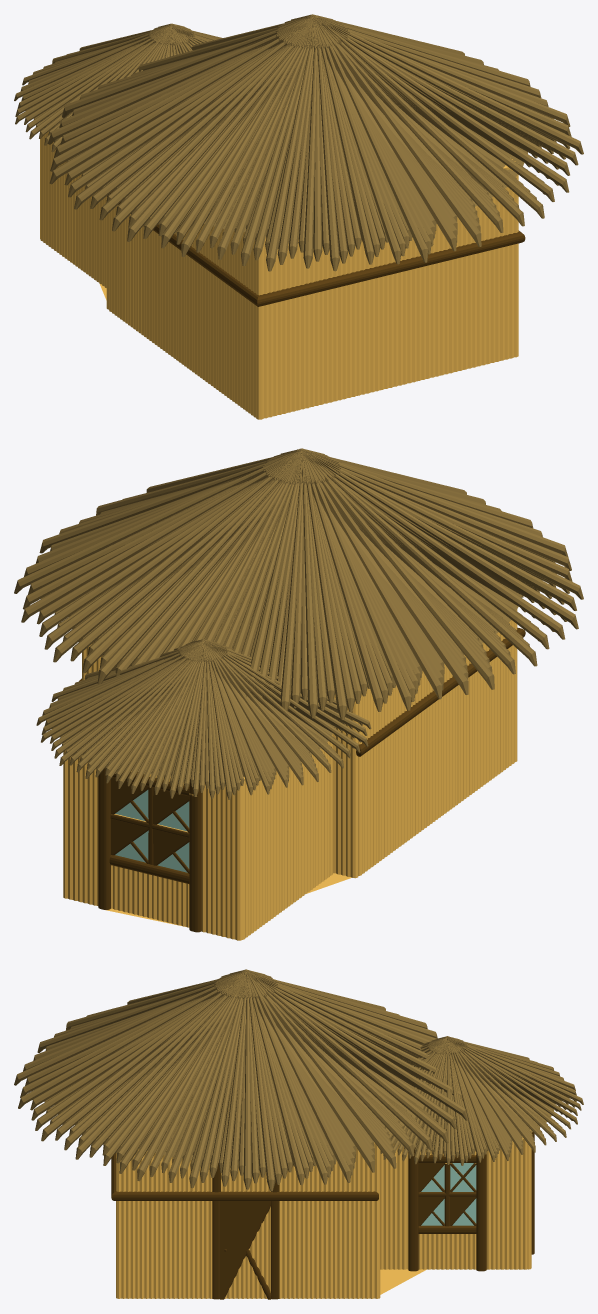
The model's file is LangloisAudrey_Maison1 (1).fbx.
3 renders of one model, top to bottom at view 1: azimuth 30°, elevation 25°; view 2: azimuth 150°, elevation 25°; view 3: azimuth 270°, elevation 25°, orthographic. The views are drawn at different scales.
Visible parts, largest first — view 1: Cube.011, Cylindre.001, Cylindre.003, Cube.008, Cylindre.006, Cube.010, Cône, Cube.009, Cube.026, Cylindre; view 2: Cube.011, Cube.008, Cylindre.003, Cylindre.006, Cube.010, Cylindre.008, Cylindre.007, Cylindre.002, Cylindre.011, Cône, Cube, Cube.009 (+6 smaller); view 3: Cube.011, Cylindre, Cube.008, Cube.010, Cylindre.004, Cube.027, Cylindre.005, Cône, Cube, Cylindre.009, Cube.009, Cylindre.002 (+6 smaller).
Part boxes in pixels (bbox=[...]): Cube.011: bbox=[48, 15, 583, 271]; Cylindre.001: bbox=[262, 165, 518, 419]; Cylindre.003: bbox=[109, 205, 261, 419]; Cube.008: bbox=[14, 25, 222, 152]; Cylindre.006: bbox=[40, 128, 106, 287]; Cube.010: bbox=[107, 191, 525, 306]; Cône: bbox=[154, 46, 527, 237]; Cube.009: bbox=[275, 14, 349, 49]; Cube.026: bbox=[148, 23, 194, 45]; Cylindre: bbox=[510, 158, 518, 357]; Cube.011: bbox=[14, 448, 583, 719]; Cube.008: bbox=[36, 641, 371, 799]; Cylindre.003: bbox=[358, 609, 517, 875]; Cylindre.006: bbox=[242, 734, 332, 939]; Cube.010: bbox=[79, 627, 525, 932]; Cylindre.008: bbox=[201, 780, 242, 940]; Cylindre.007: bbox=[63, 747, 98, 905]; Cylindre.002: bbox=[82, 642, 358, 878]; Cylindre.011: bbox=[111, 865, 189, 927]; Cône: bbox=[126, 478, 521, 674]; Cube: bbox=[105, 790, 351, 926]; Cube.009: bbox=[262, 448, 340, 485]; Cube.011: bbox=[14, 971, 468, 1191]; Cylindre: bbox=[116, 1142, 374, 1298]; Cube.008: bbox=[380, 1041, 583, 1165]; Cube.010: bbox=[111, 1132, 534, 1299]; Cylindre.004: bbox=[486, 1137, 527, 1269]; Cube.027: bbox=[220, 1201, 271, 1299]; Cylindre.005: bbox=[380, 1143, 406, 1269]; Cône: bbox=[114, 998, 423, 1163]; Cube: bbox=[380, 1152, 486, 1294]; Cylindre.009: bbox=[418, 1234, 476, 1269]; Cube.009: bbox=[214, 969, 277, 999]; Cylindre.002: bbox=[374, 1143, 380, 1298].
Bounding box in the file's own units: 779 × 513 × 964.
